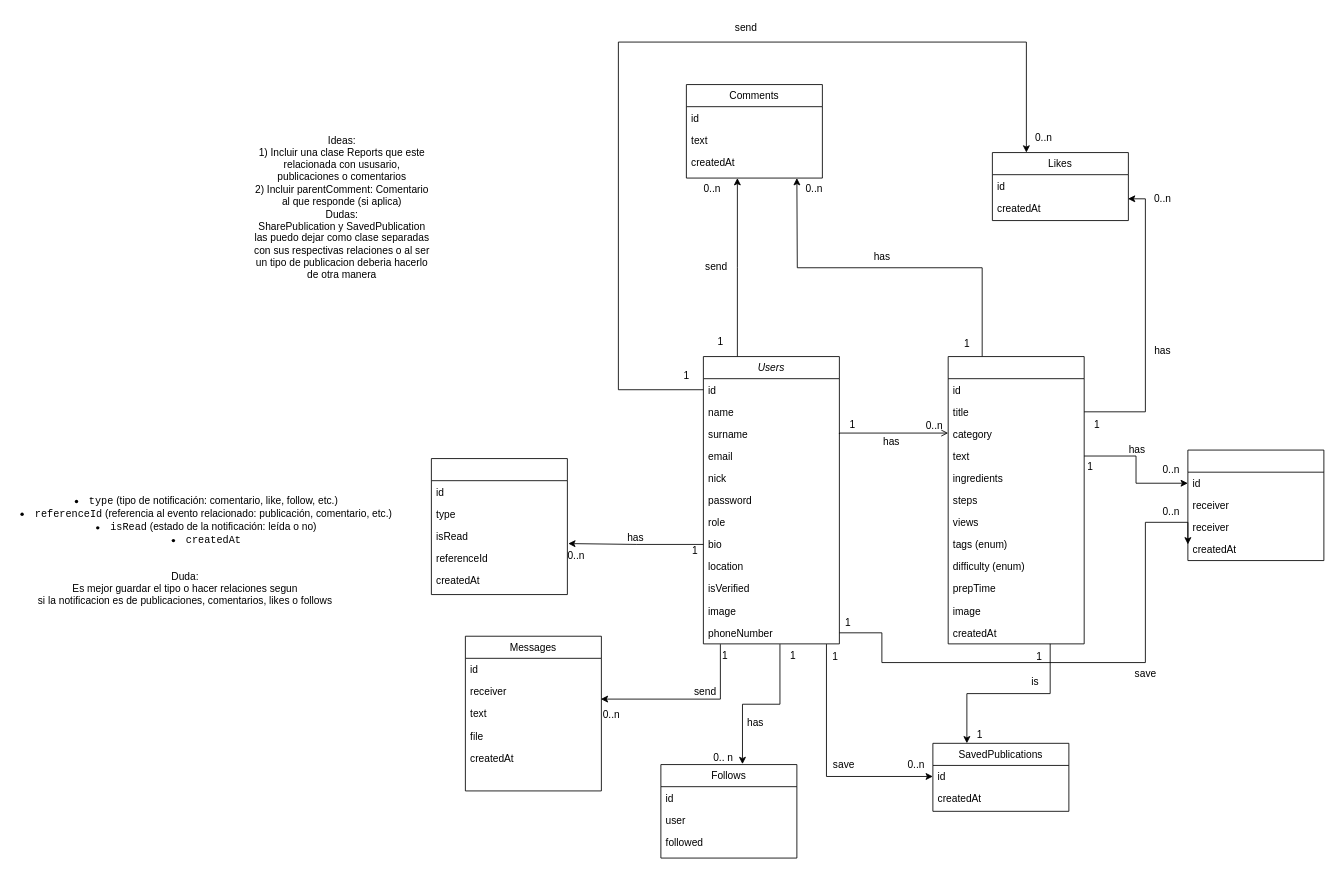
Some shapes in this 1339 by 873 pixel diagram are drawn without their labels. The shapes that lost their labels are listed below. From the top down, each one's box as (x1, y1, x2, y2) in pixels, then its label:
(947, 356, 1084, 644): Publications
(1187, 449, 1324, 561): Shares
(431, 458, 567, 595): Notifications
